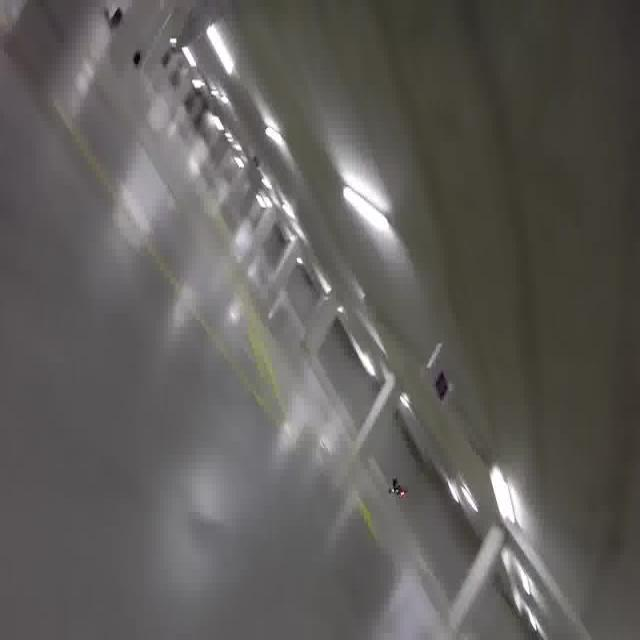drone: (387, 476, 409, 504)
